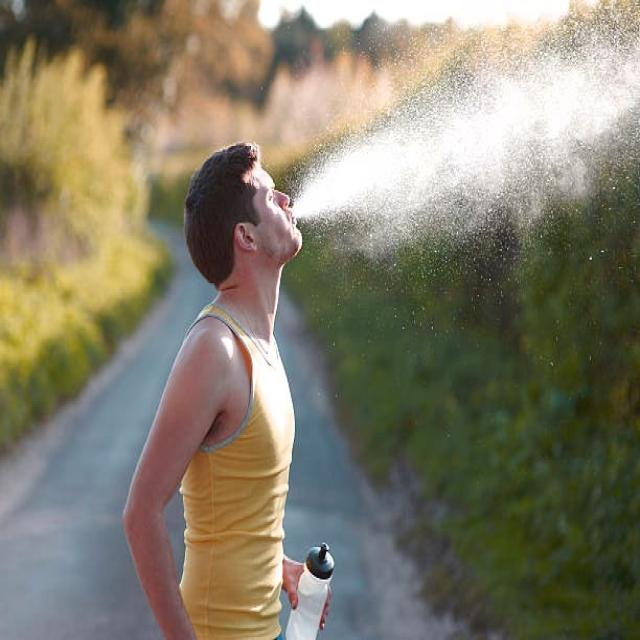Spitting: (182, 111, 368, 380)
